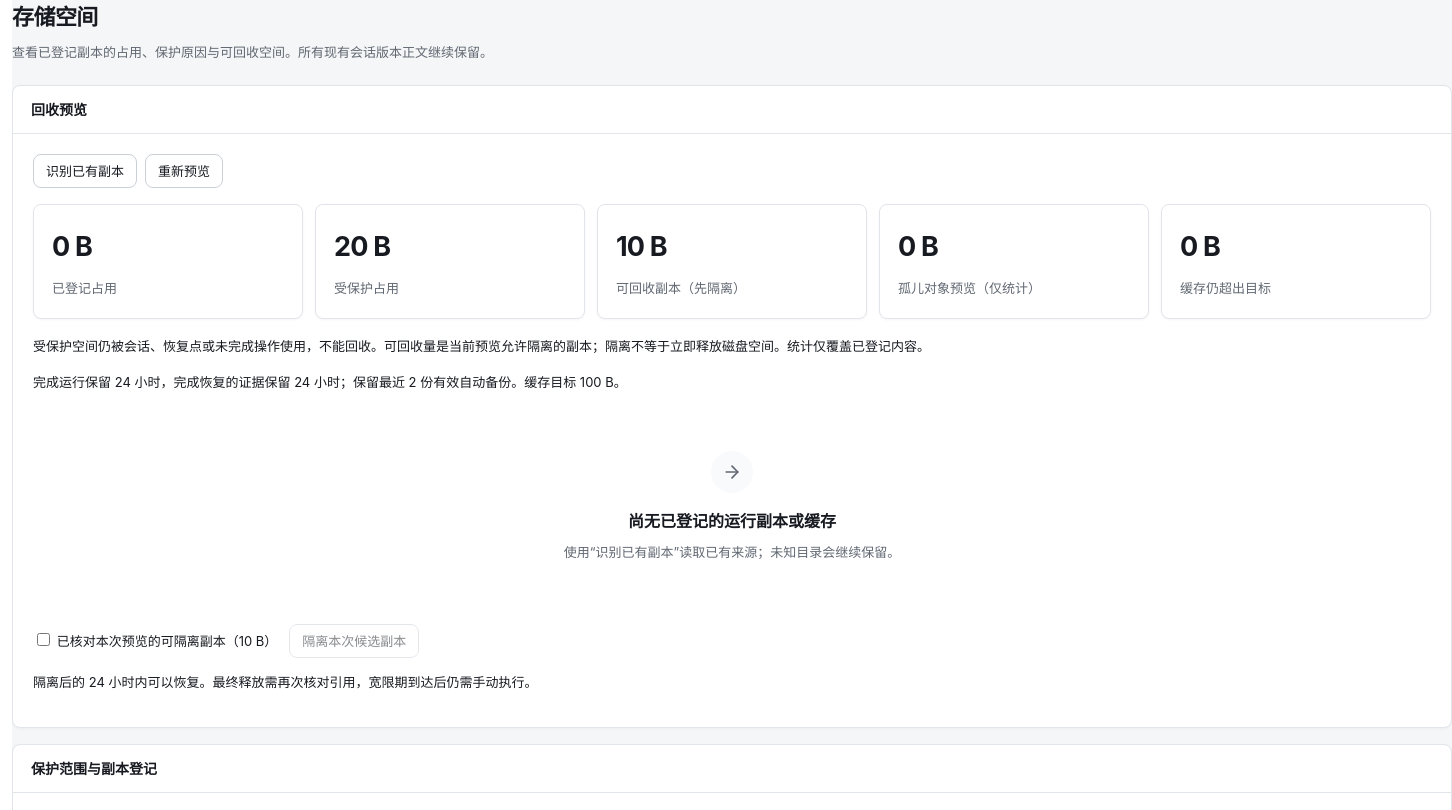
recovery and storage explanations › explains protected and reclaimable space and retains preview approval
Expected: the button "隔离本次候选副本" is disabled, top-left (289, 624), bottom-right (419, 658)
What coordinates should you click on to do the following:
click the checkbox labelled "已核对本次预览的可隔离副本（10 B）"
I would click on:
 (44, 640)
Its box is top-left (37, 633), bottom-right (50, 646).
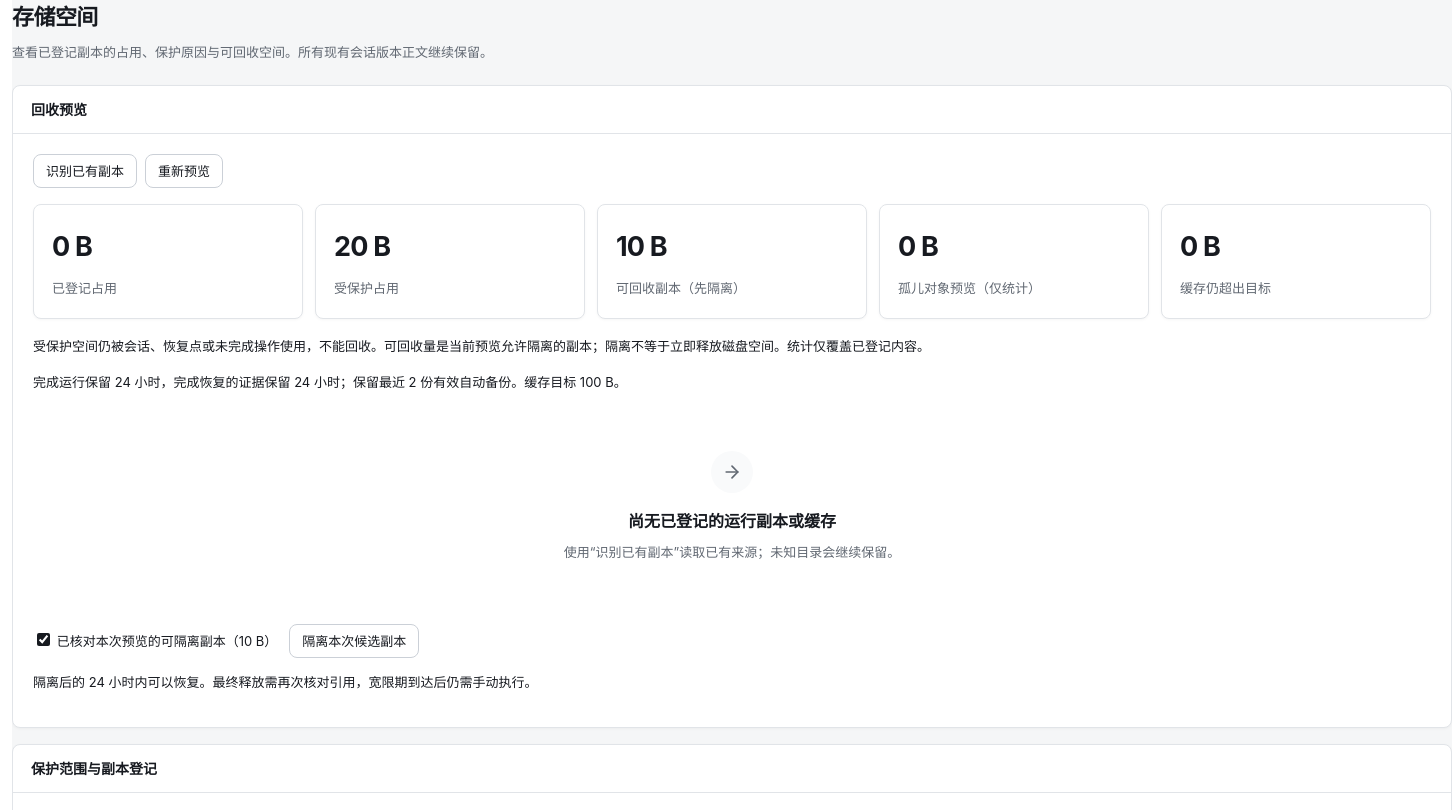
Now the button "隔离本次候选副本" is enabled, box top-left (289, 624), bottom-right (419, 658)
